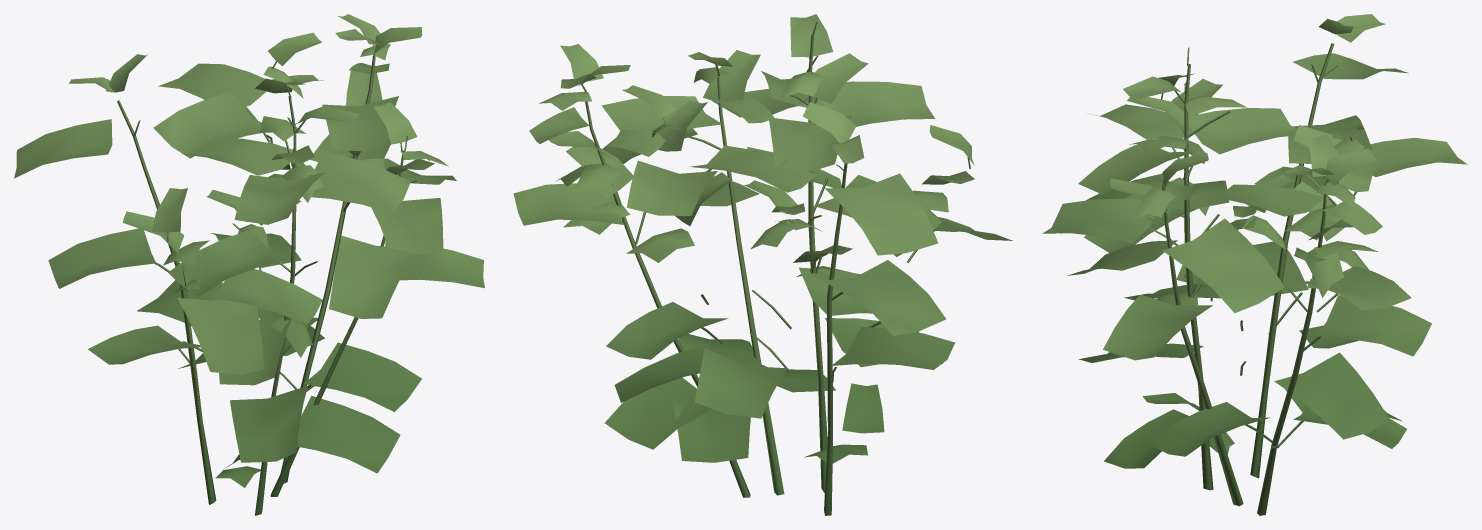
File: Nettle A.glb
The picture shows the model from 3 angles, left to right: view 1: azimuth 30°, elevation 25°; view 2: azimuth 150°, elevation 25°; view 3: azimuth 270°, elevation 25°; orthographic projection. The views are drawn at different scales.
Visible parts, largest first — view 1: Nettle A; view 2: Nettle A; view 3: Nettle A.
Part boxes in pixels (x1,y1,x2,y2): Nettle A: [14, 14, 484, 515]; Nettle A: [513, 14, 1012, 515]; Nettle A: [1042, 14, 1467, 515].
Size of the model in its own units: 0.6531 by 0.6803 by 0.5805.
